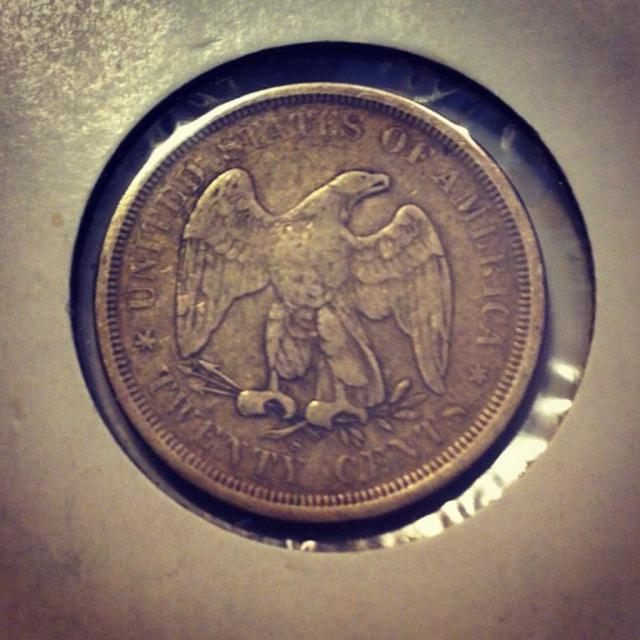Coin: (93, 81, 550, 522)
